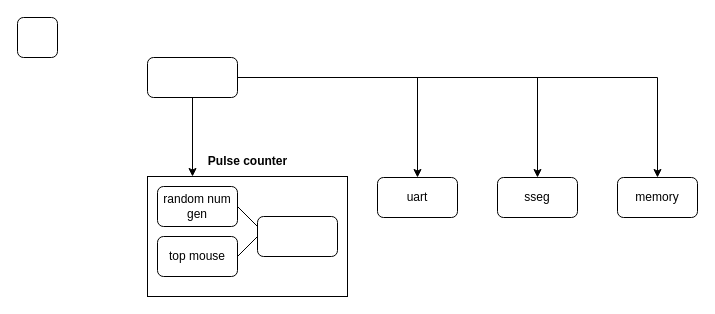
Some shapes in this 715 by 314 pixel diagram are drawn without their labels. Here are the shapes that lost their labels. From the top down, the centre of each, then its label:
At pixel 37 37: "PLL".
At pixel 192 77: "main_controller".
At pixel 297 236: "counter".
